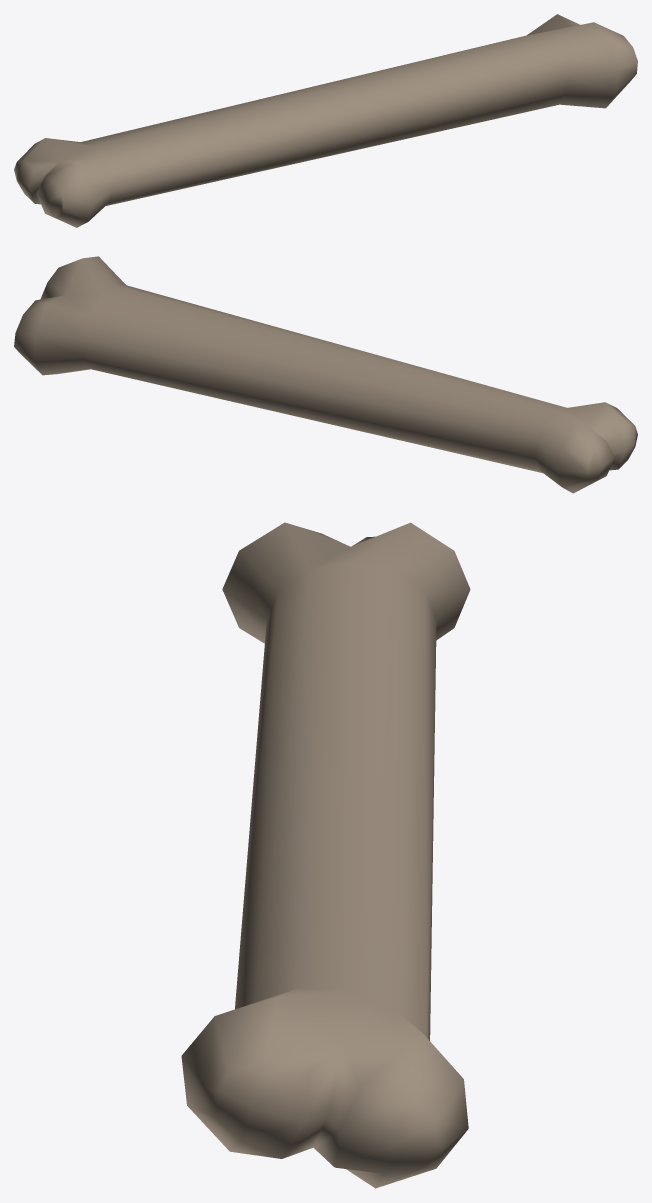
Rendered from SM_Bone.fbx.
The picture shows the model from 3 angles, top to bottom: view 1: azimuth 30°, elevation 25°; view 2: azimuth 150°, elevation 25°; view 3: azimuth 270°, elevation 25°; orthographic projection. The views are drawn at different scales.
Visible parts, largest first — view 1: pCylinder1; view 2: pCylinder1; view 3: pCylinder1.
Boxes of the visible parts, x1=… form: pCylinder1: x1=14, y1=14, x2=637, y2=227; pCylinder1: x1=14, y1=256, x2=637, y2=493; pCylinder1: x1=181, y1=522, x2=470, y2=1188.
Bounding box in the file's own units: 40.74 × 6.44 × 8.79.
